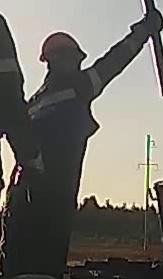gloves: (124, 9, 163, 41)
helmet: (39, 32, 88, 64)
vest: (15, 69, 105, 185)
